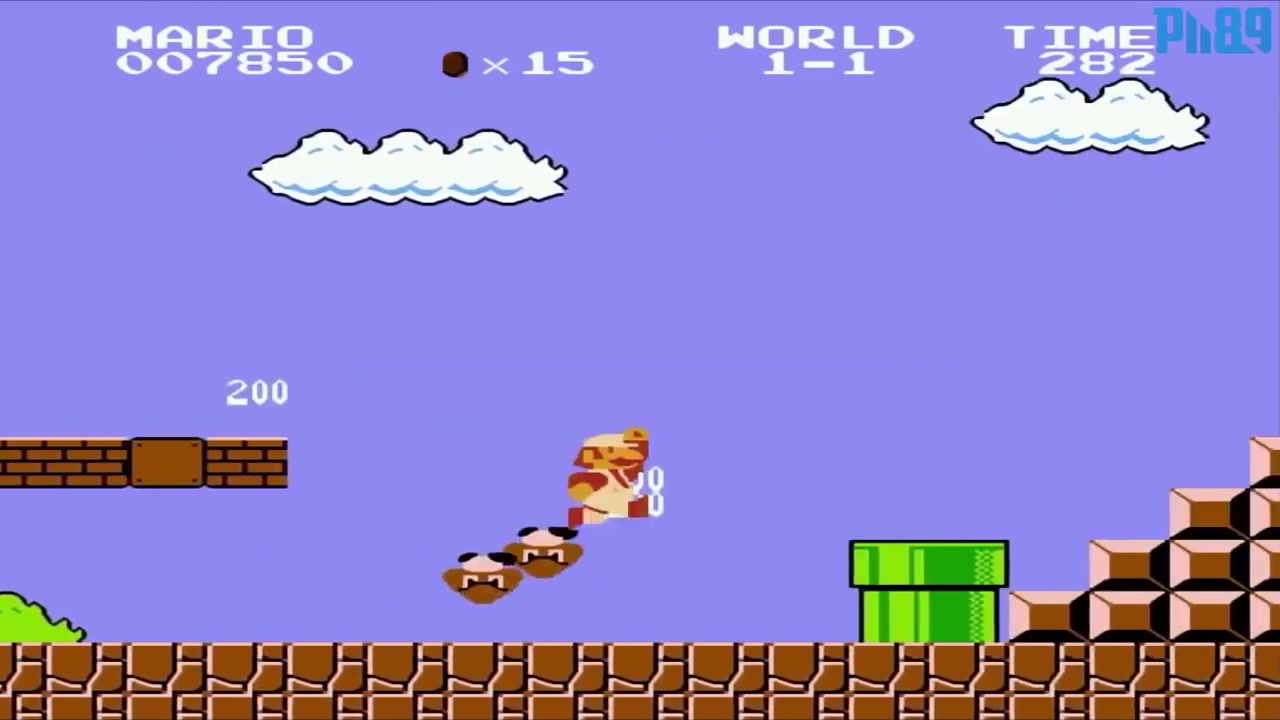mario: (547, 424, 681, 539)
